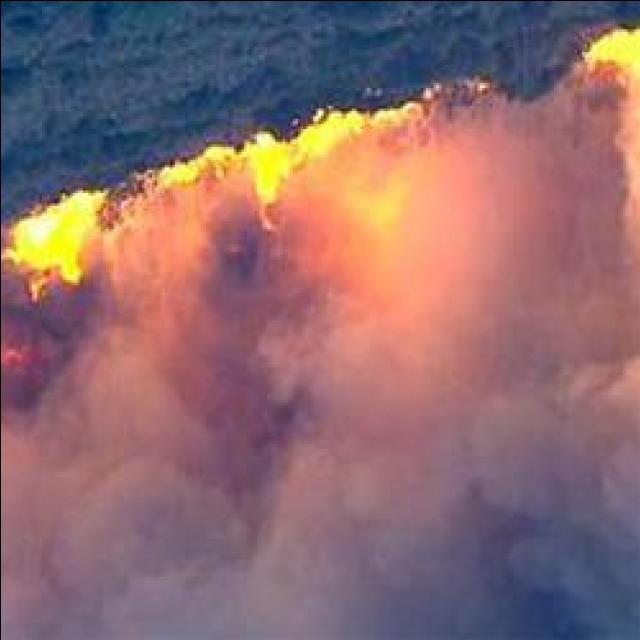fire: (242, 108, 355, 205), (10, 187, 104, 290), (582, 27, 640, 83)
smoke: (464, 130, 640, 632), (211, 214, 438, 524), (2, 300, 198, 548), (110, 199, 218, 289)
